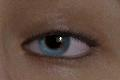eye: (38, 35, 70, 56)
